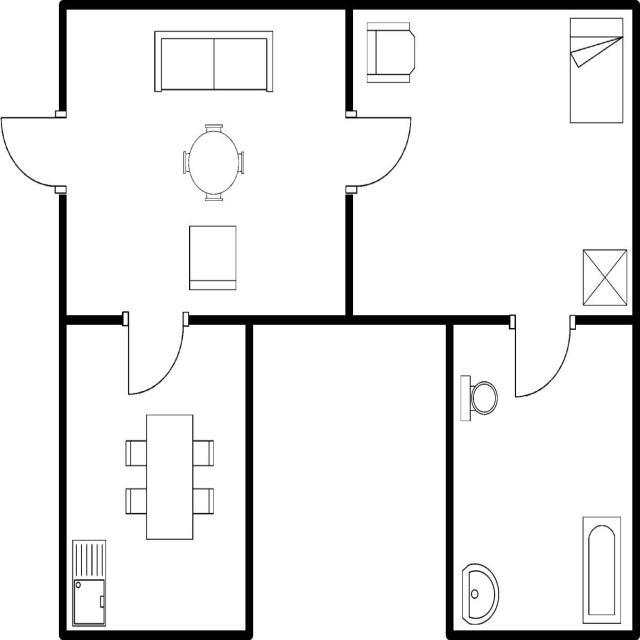armchair: (362, 18, 418, 88), (457, 372, 500, 426)
bed: (566, 13, 626, 126)
coffee_table: (578, 244, 629, 310)
dining_table: (121, 409, 216, 544)
large_sofa: (150, 25, 276, 98)
round_table: (178, 119, 248, 204)
sink: (69, 535, 110, 629)
small_sink: (458, 559, 502, 627)
small_sofa: (183, 218, 239, 295)
tub: (579, 511, 625, 626)
